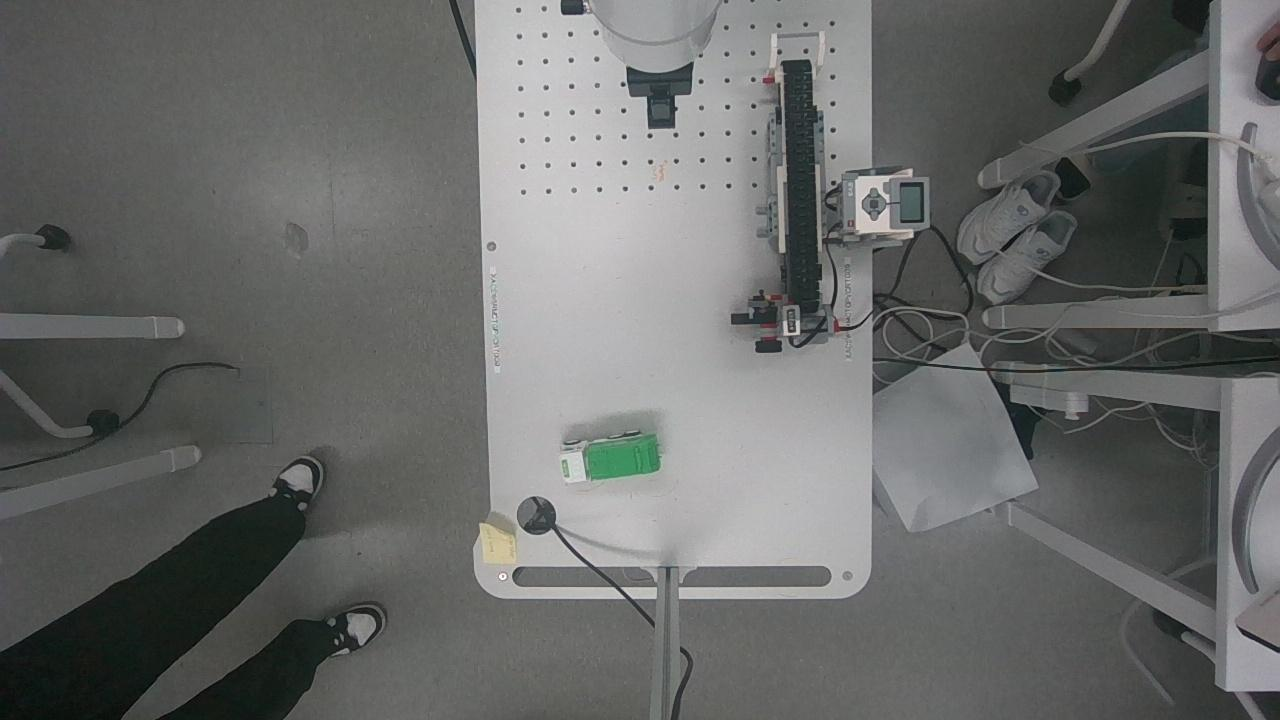truck: (541, 418, 666, 492)
